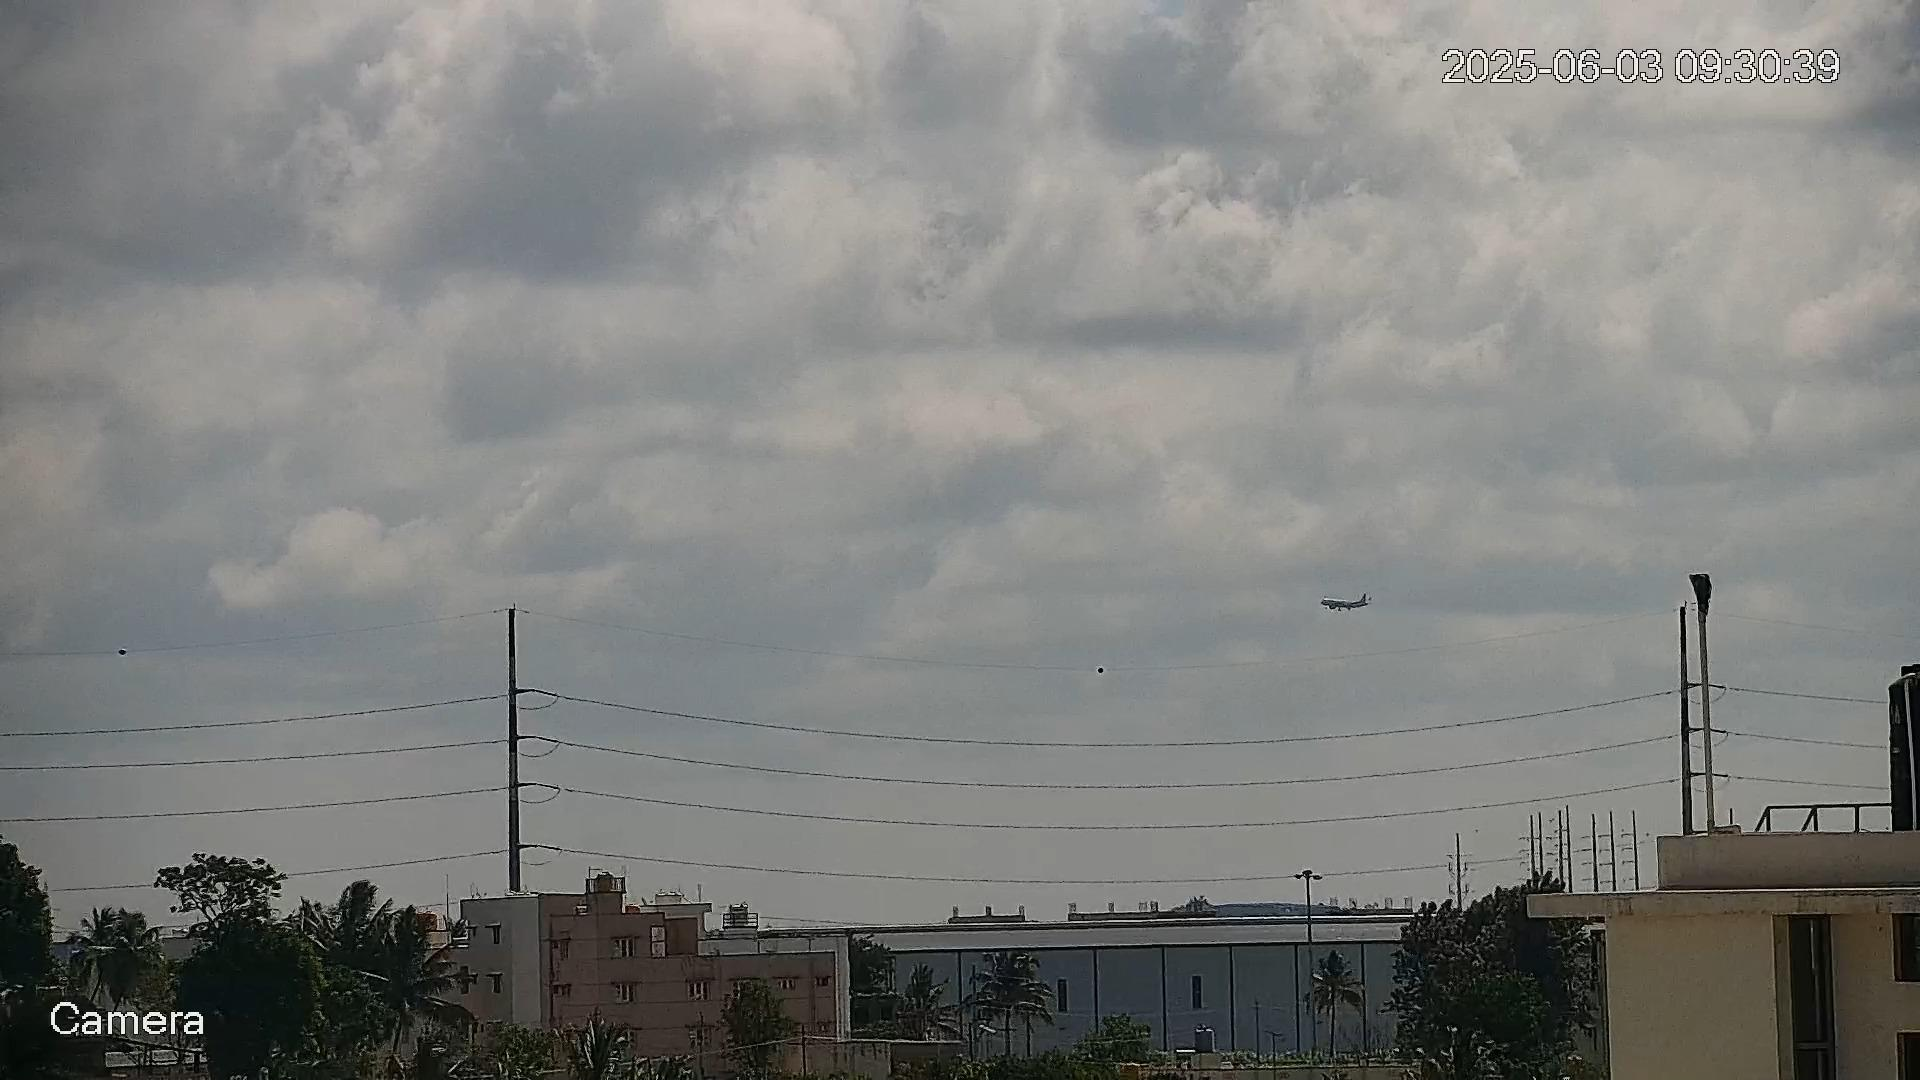Aircraft: (1320, 592, 1370, 612)
